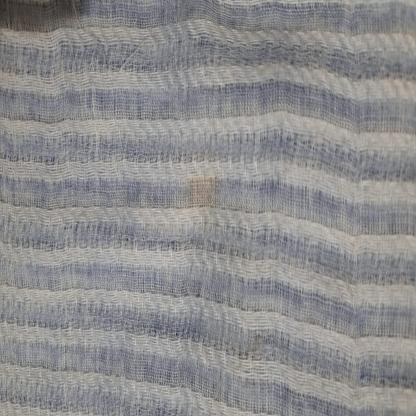spot: (180, 138, 231, 242)
